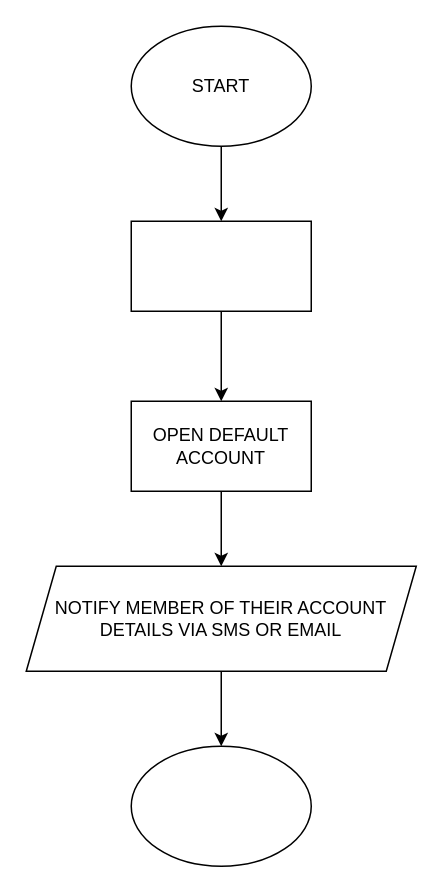
This 443x893 diagram has some shape labels left out. The shapes that lost their labels are listed below. From the top down, each one's centre as x and y in pixels, then its label:
At (220,265): "ASSIGN MEMBER NUMBER".
At (220,805): "STOP".
